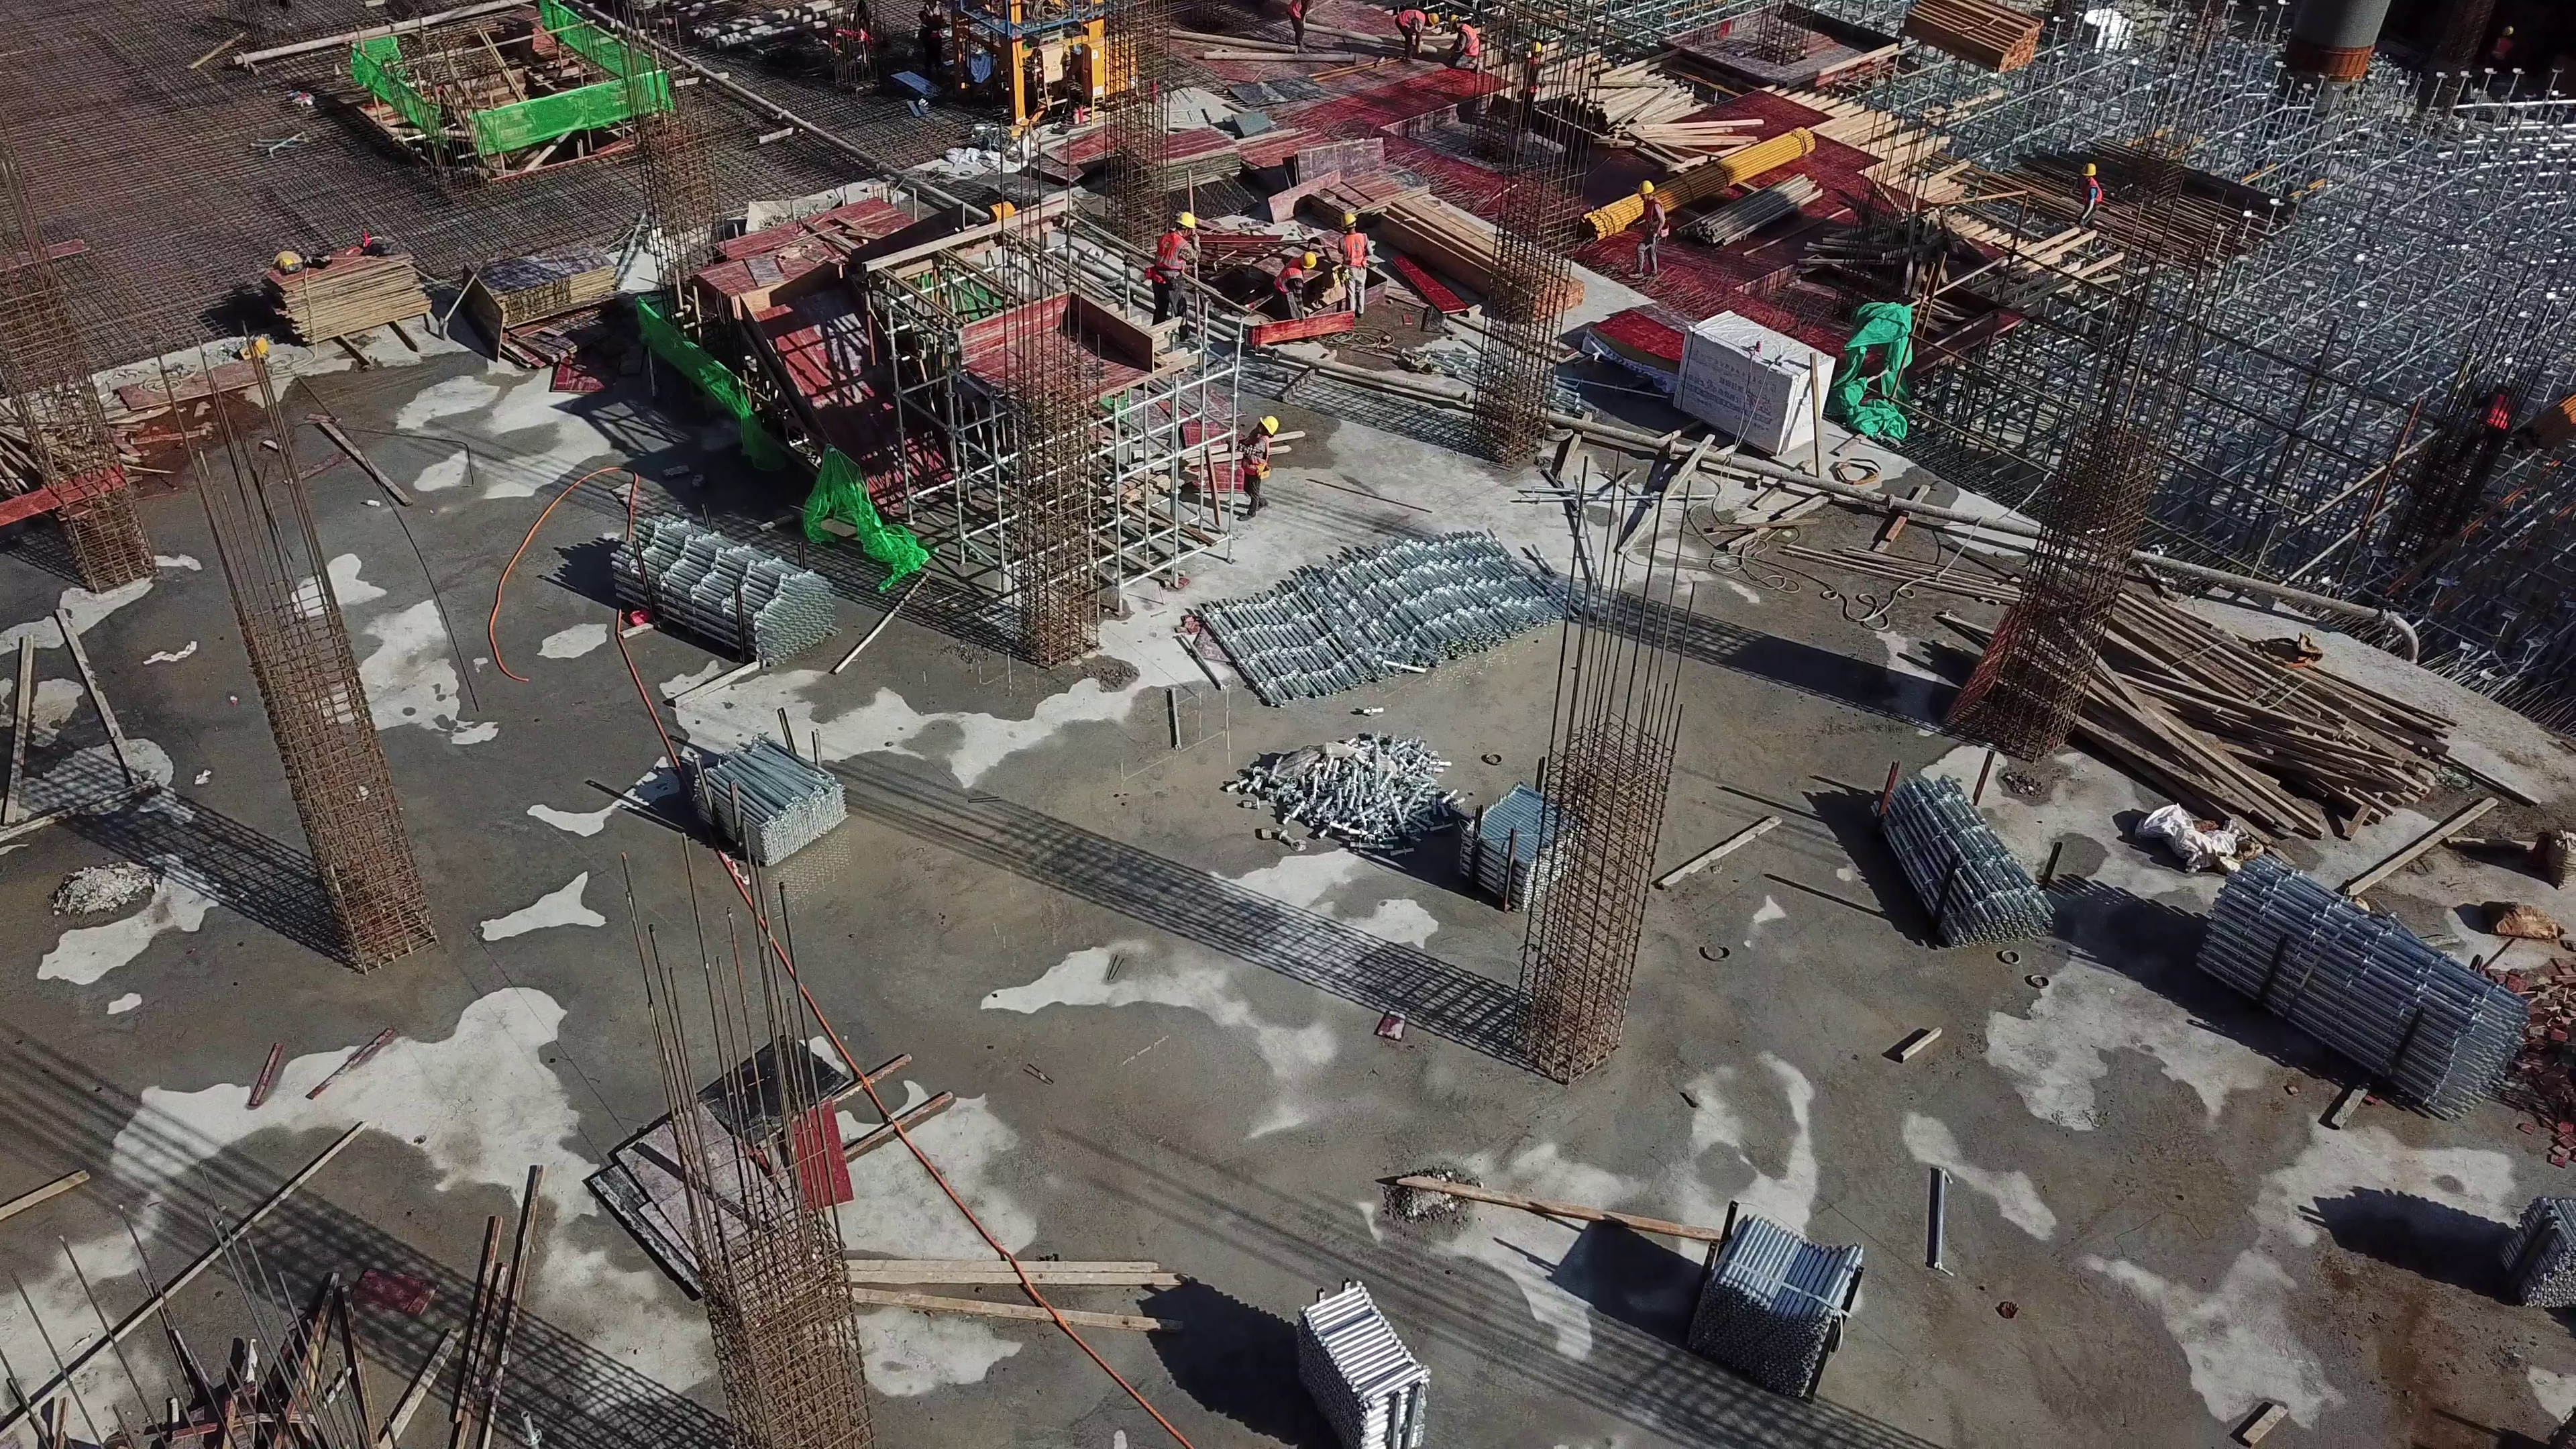board: (458, 256, 614, 353), (264, 252, 430, 339), (1281, 142, 1428, 211), (1124, 132, 1238, 194)
ebox: (1081, 32, 1142, 103)
helmet: (1177, 210, 1203, 233), (1258, 413, 1281, 439), (1637, 178, 1654, 200), (1340, 210, 1356, 227), (1300, 254, 1317, 270), (1427, 12, 1440, 30), (2080, 163, 2097, 176), (1446, 13, 1458, 28)
person: (1151, 209, 1193, 339), (1232, 412, 1281, 521), (1335, 212, 1377, 323), (1631, 182, 1666, 285), (1271, 253, 1315, 329), (908, 3, 941, 80), (1519, 43, 1544, 142), (2074, 163, 2102, 236), (1394, 8, 1439, 55), (1447, 14, 1481, 74), (1283, 1, 1307, 48)
scaffold: (2164, 863, 2530, 1132), (1202, 518, 1567, 708), (598, 496, 850, 688), (1680, 1222, 1875, 1397), (1250, 735, 1452, 869), (1280, 1268, 1428, 1449), (1438, 771, 1598, 912), (685, 722, 845, 857), (2473, 1192, 2576, 1313)
vest: (1156, 230, 1186, 276), (1341, 229, 1371, 268), (1275, 261, 1303, 297), (1643, 201, 1670, 238), (1389, 7, 1424, 35), (1456, 24, 1483, 60), (2081, 177, 2106, 202), (1285, 1, 1305, 20)
wood: (2114, 594, 2425, 830), (1385, 197, 1586, 317), (1561, 51, 1726, 155), (1912, 1, 2043, 74)
